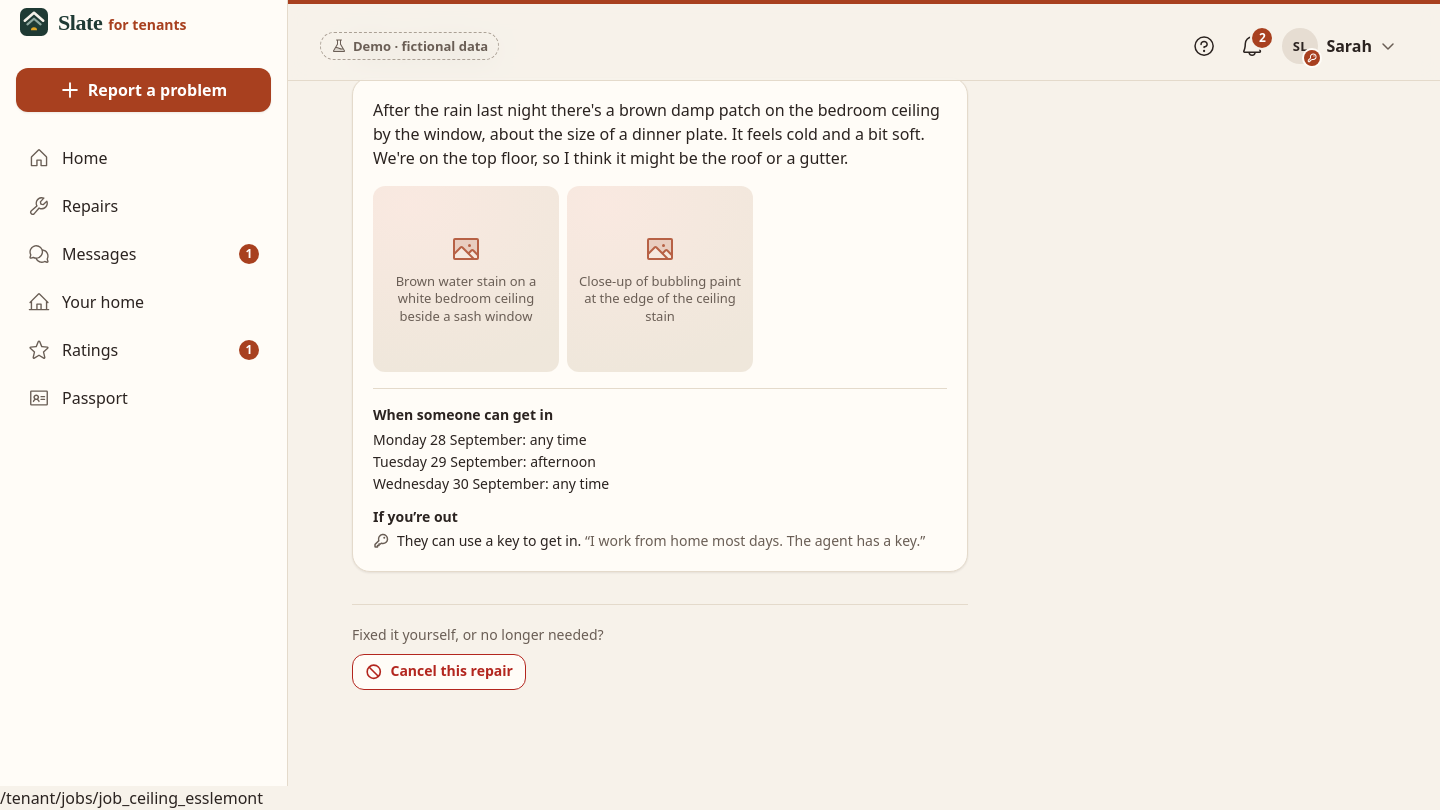
Test: a repair’s page › lets the person who reported it cancel it, with a reason
(page scrolled)
Click the button "Cancel this repair": (439, 672) [352, 654, 526, 690]
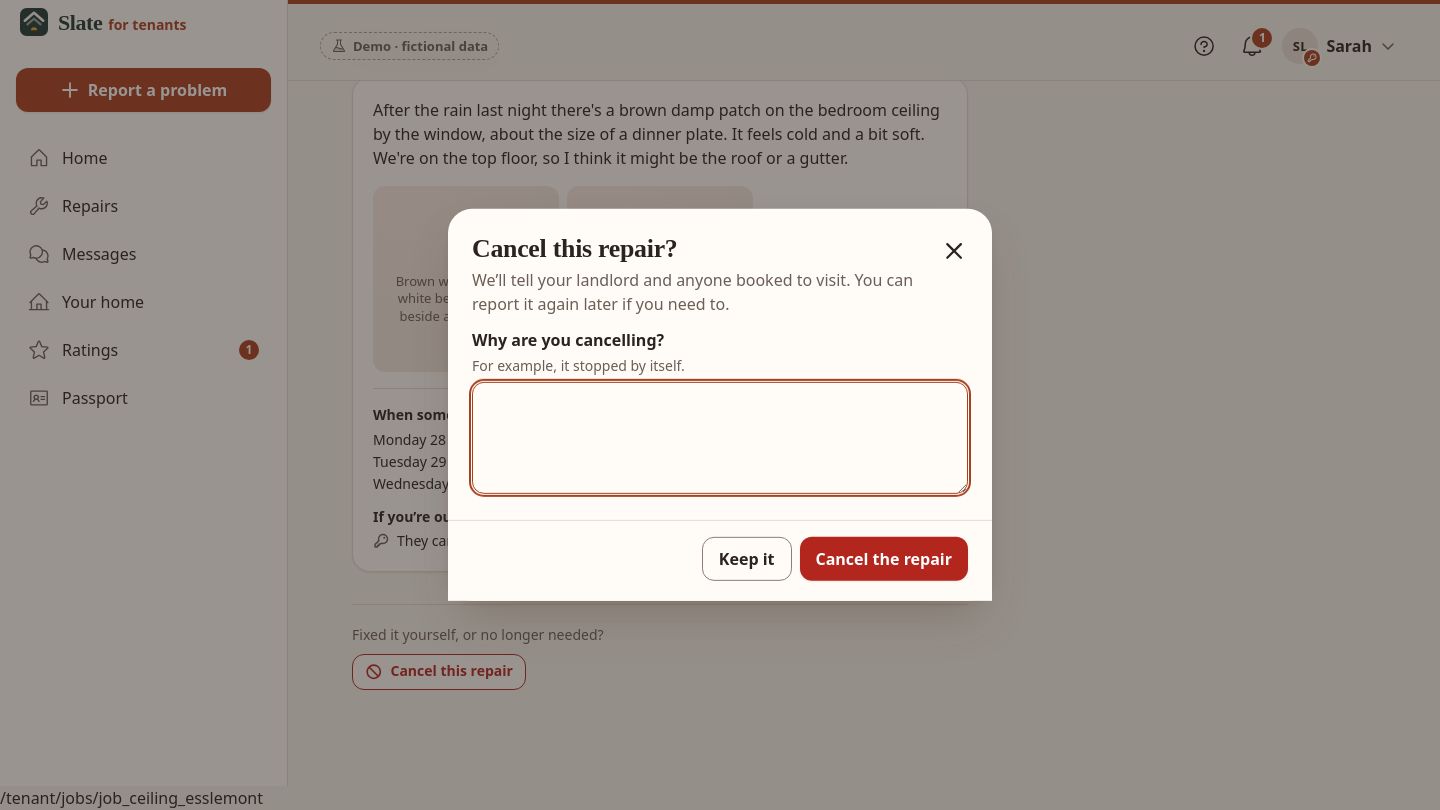
In the text box labelled "Why are you cancelling?": (720, 438) [472, 382, 968, 494], type "It dried out and has not come back."
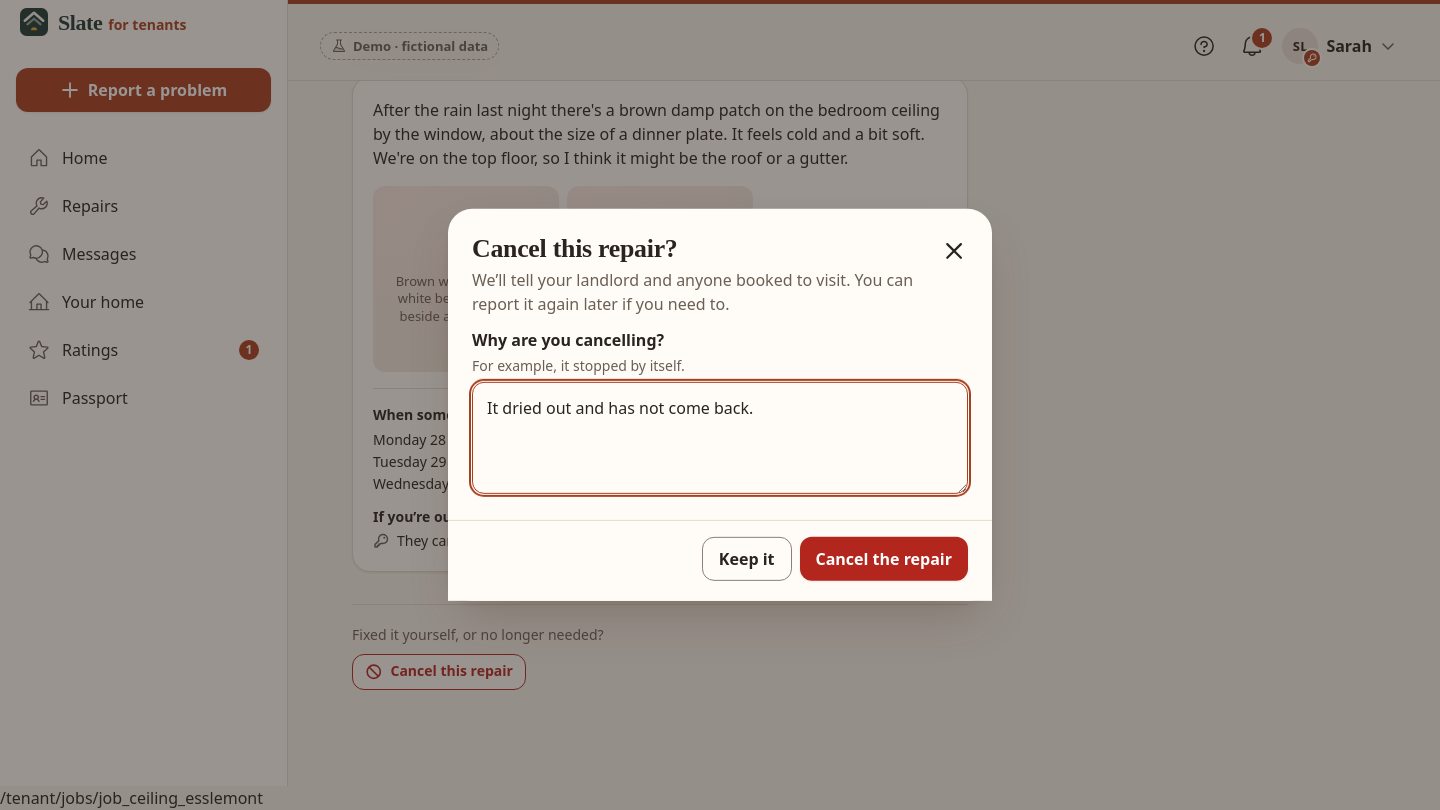
Click the button "Cancel the repair": (884, 559) [800, 537, 968, 581]
(page scrolled)
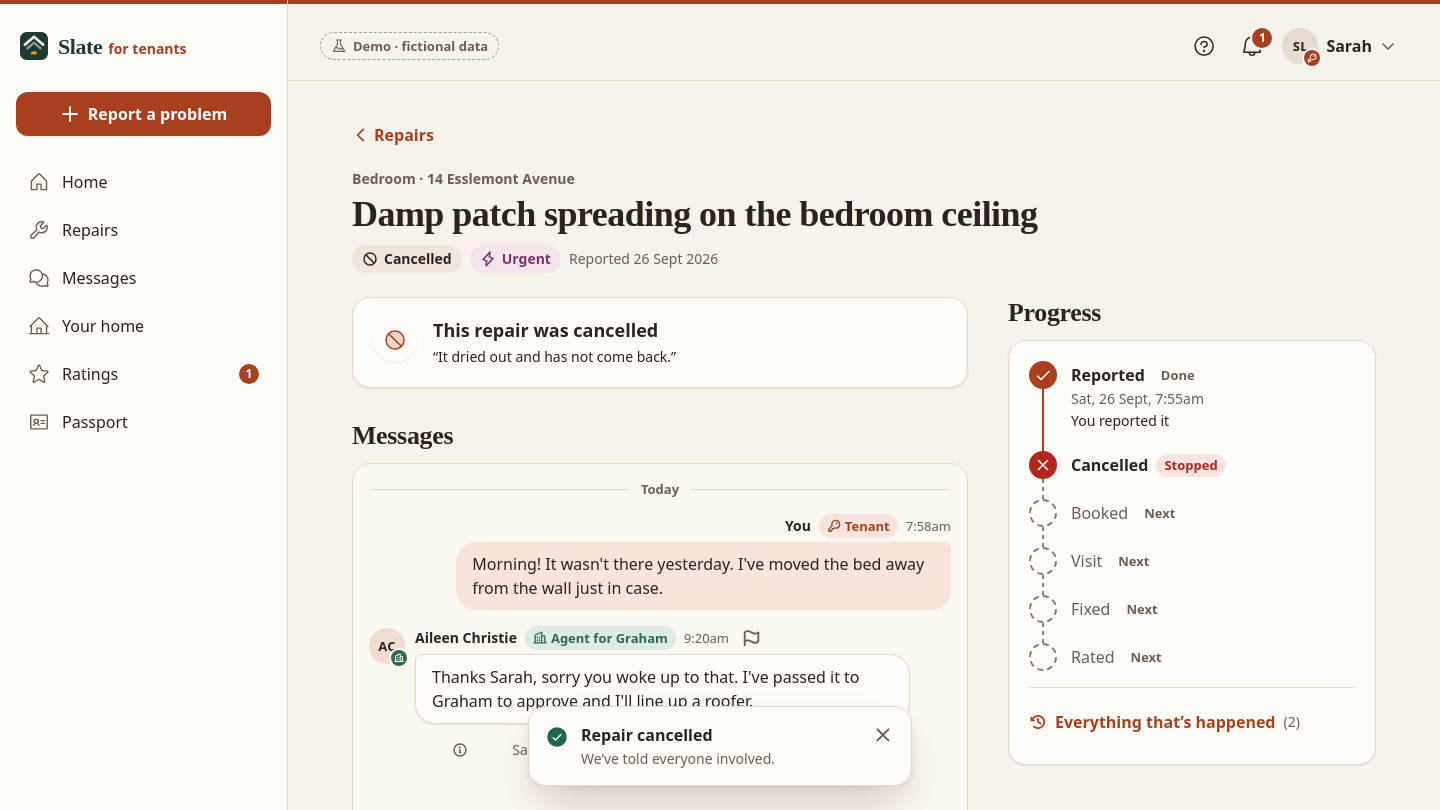
Expected: the text "This repair was cancelled" is shown, [433, 318, 658, 342]
